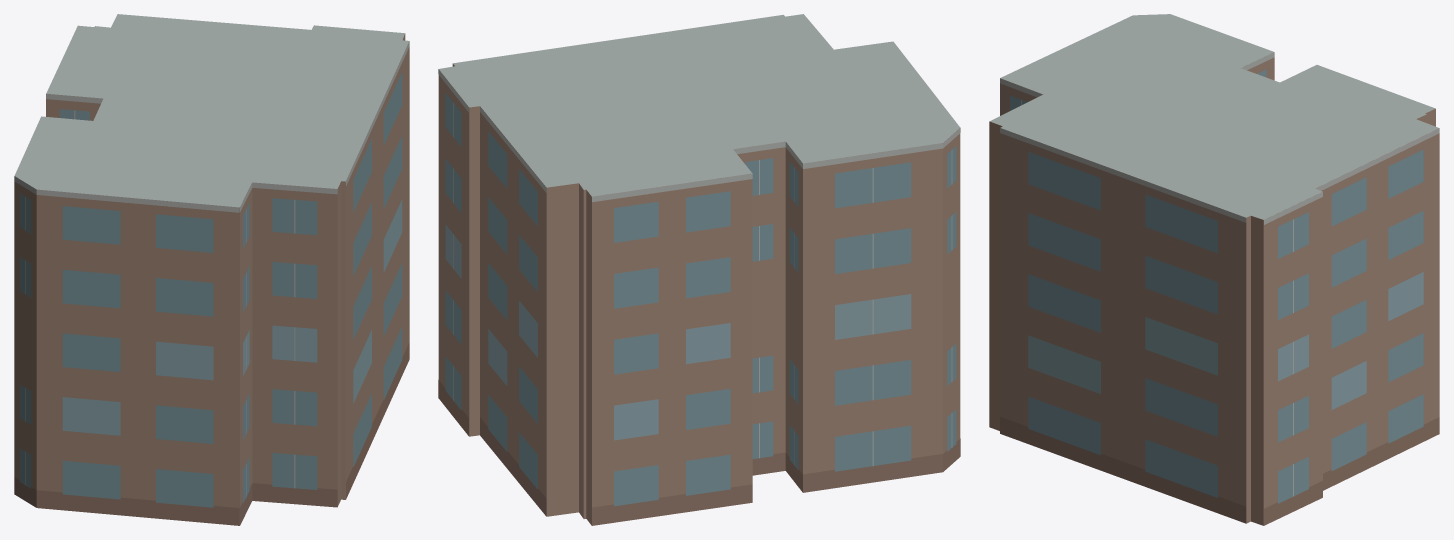
The model's file is survey-upis-32732726.glb.
The picture shows the model from 3 angles, left to right: view 1: azimuth 30°, elevation 25°; view 2: azimuth 150°, elevation 25°; view 3: azimuth 270°, elevation 25°; orthographic projection. The views are drawn at different scales.
Parts seen in each view (by area): view 1: survey-upis-32732726.tmp; view 2: survey-upis-32732726.tmp; view 3: survey-upis-32732726.tmp.
Boxes of the visible parts, x1,y1,x2,y2 form: survey-upis-32732726.tmp: (14,14,409,525); survey-upis-32732726.tmp: (438,14,960,525); survey-upis-32732726.tmp: (989,14,1439,525).
Size of the model in its own units: 20.95 by 14.5 by 19.34.
